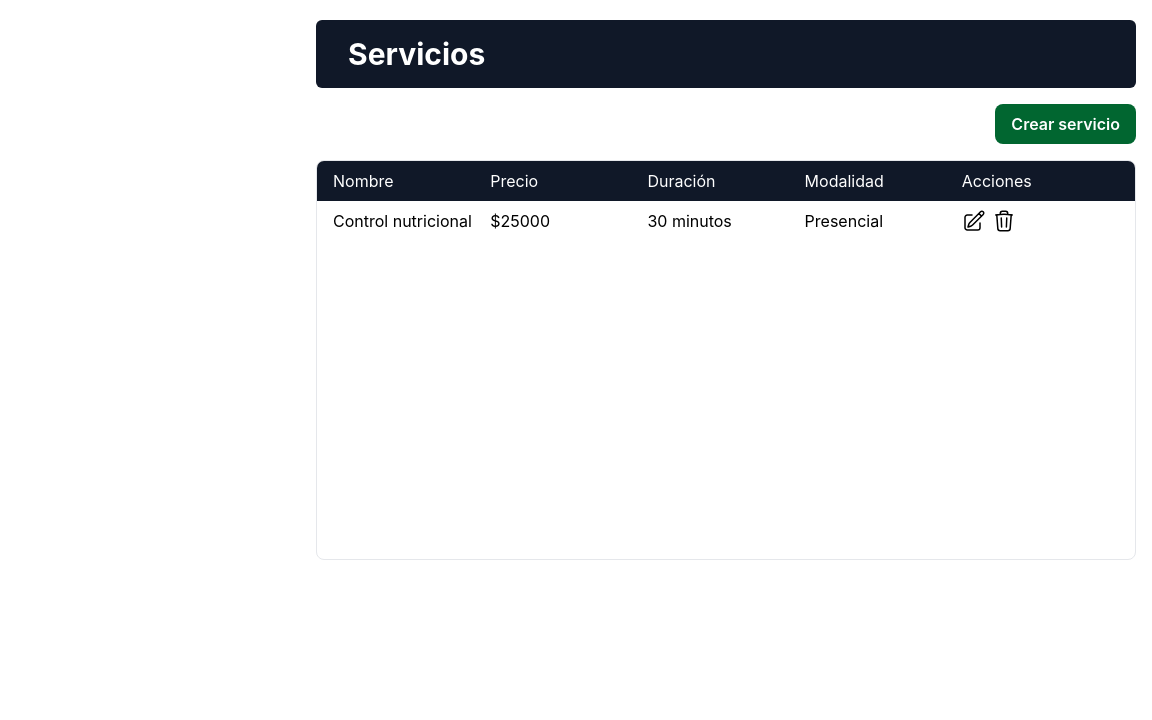
Scenario: AdministracionServicios › mantiene la confirmación si falla y retira el servicio tras el DELETE exitoso
The width and height of the screenshot is (1152, 720).
What coordinates should you click on to do the following:
click the button named "Eliminar Control nutricional"
I would click on:
 (1004, 221)
Its box is [992,209,1016,233].
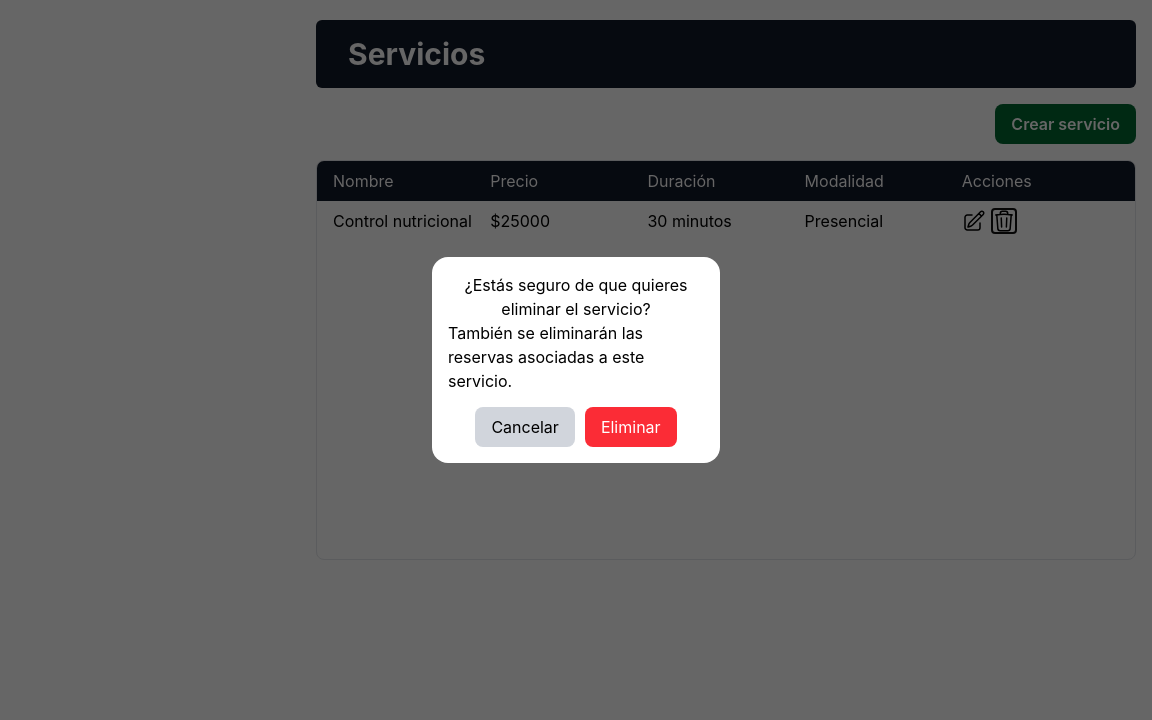
Check: the text "se eliminarán las reservas asociadas" is shown, box [448,323,644,391]
What coordinates should you click on to do the following:
click the button "Eliminar"
I would click on:
 (631, 427)
Its box is [585,407,677,447].
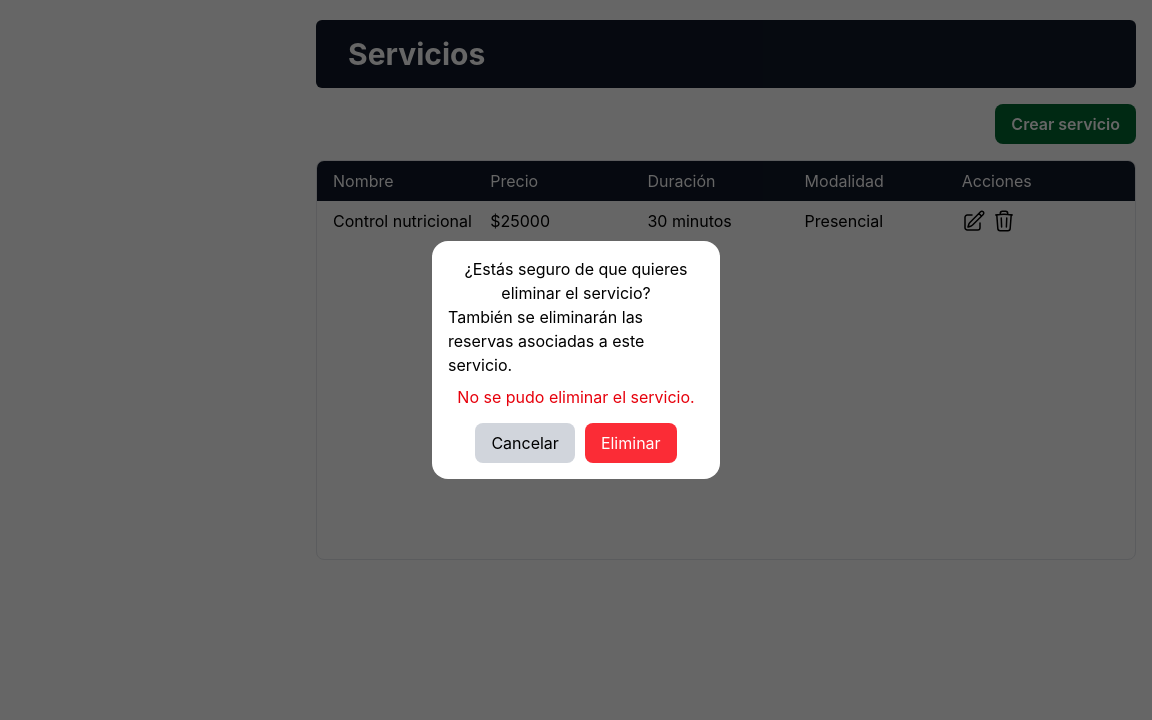
Check: the text "Control nutricional" is shown, box [333,209,490,233]
Check: the message shows "No se pudo eliminar", box [457,387,695,407]
What coordinates should you click on to do the following:
click the button "Eliminar"
I would click on:
 (631, 443)
Its box is [585,423,677,463].
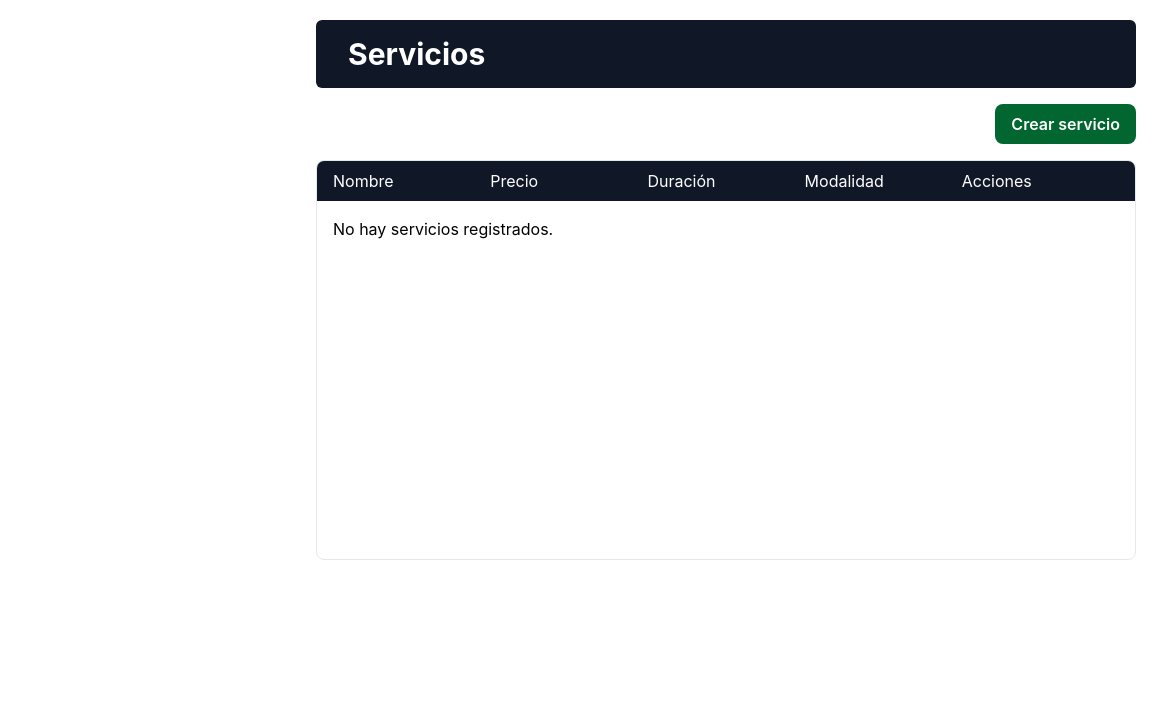
Check: the text "No hay servicios registrados." is shown, box [333,219,553,239]
Check: the dialog is gone
